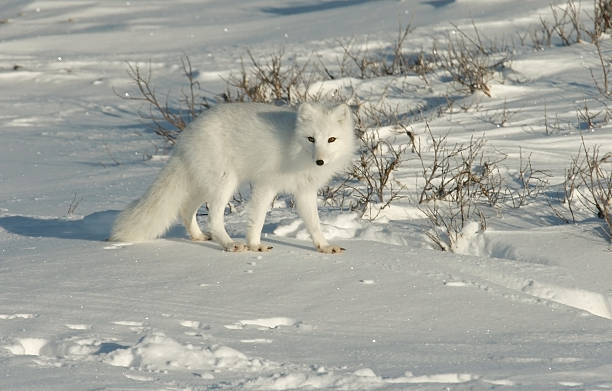arcticfox: (301, 117, 342, 175)
